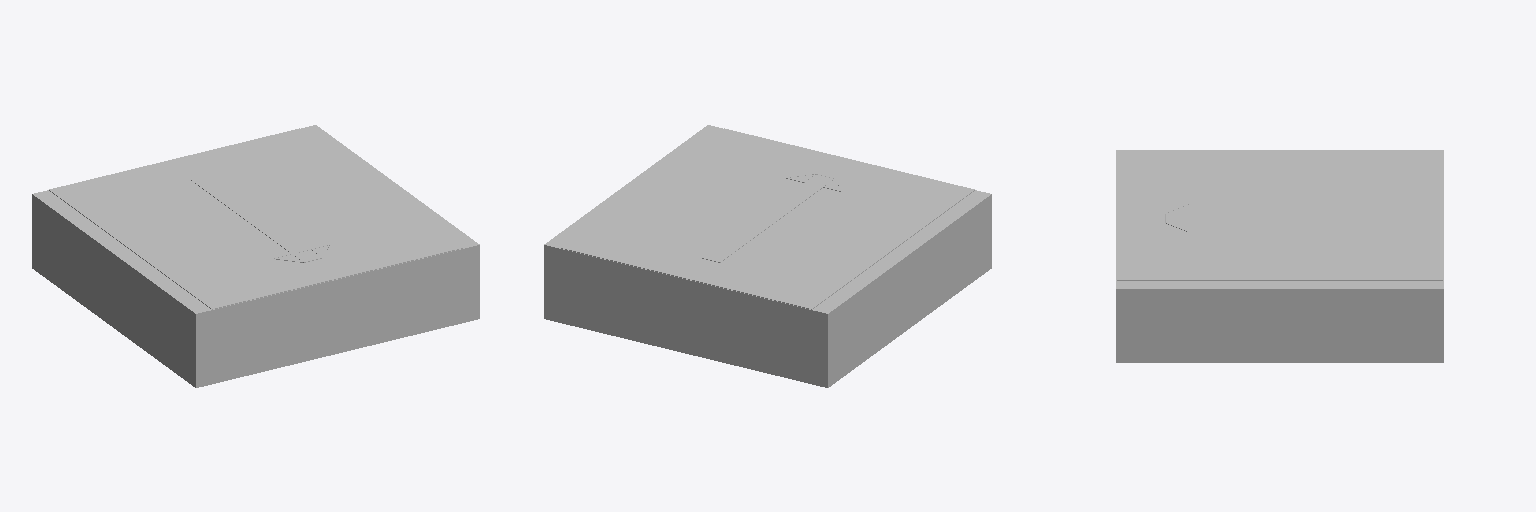
Rendered from Conveyor.obj.
The picture shows the model from 3 angles: view 1: azimuth 30°, elevation 25°; view 2: azimuth 150°, elevation 25°; view 3: azimuth 270°, elevation 25°; orthographic projection.
Visible parts, largest first — view 1: Conveyor; view 2: Conveyor; view 3: Conveyor.
Boxes of the visible parts, box(x1,y1,x2,y2) form: Conveyor: box(32, 125, 479, 387); Conveyor: box(544, 125, 991, 387); Conveyor: box(1116, 150, 1443, 362).
Bounding box in the file's own units: 1 × 0.2538 × 1.